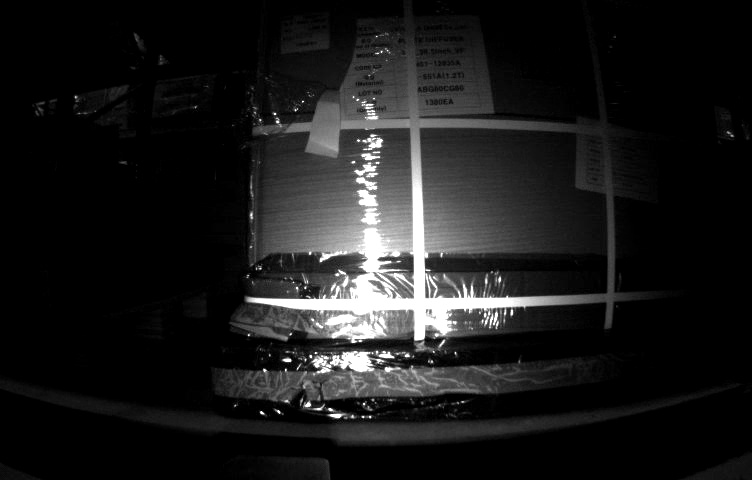True Barcode: (282, 15, 326, 48)
